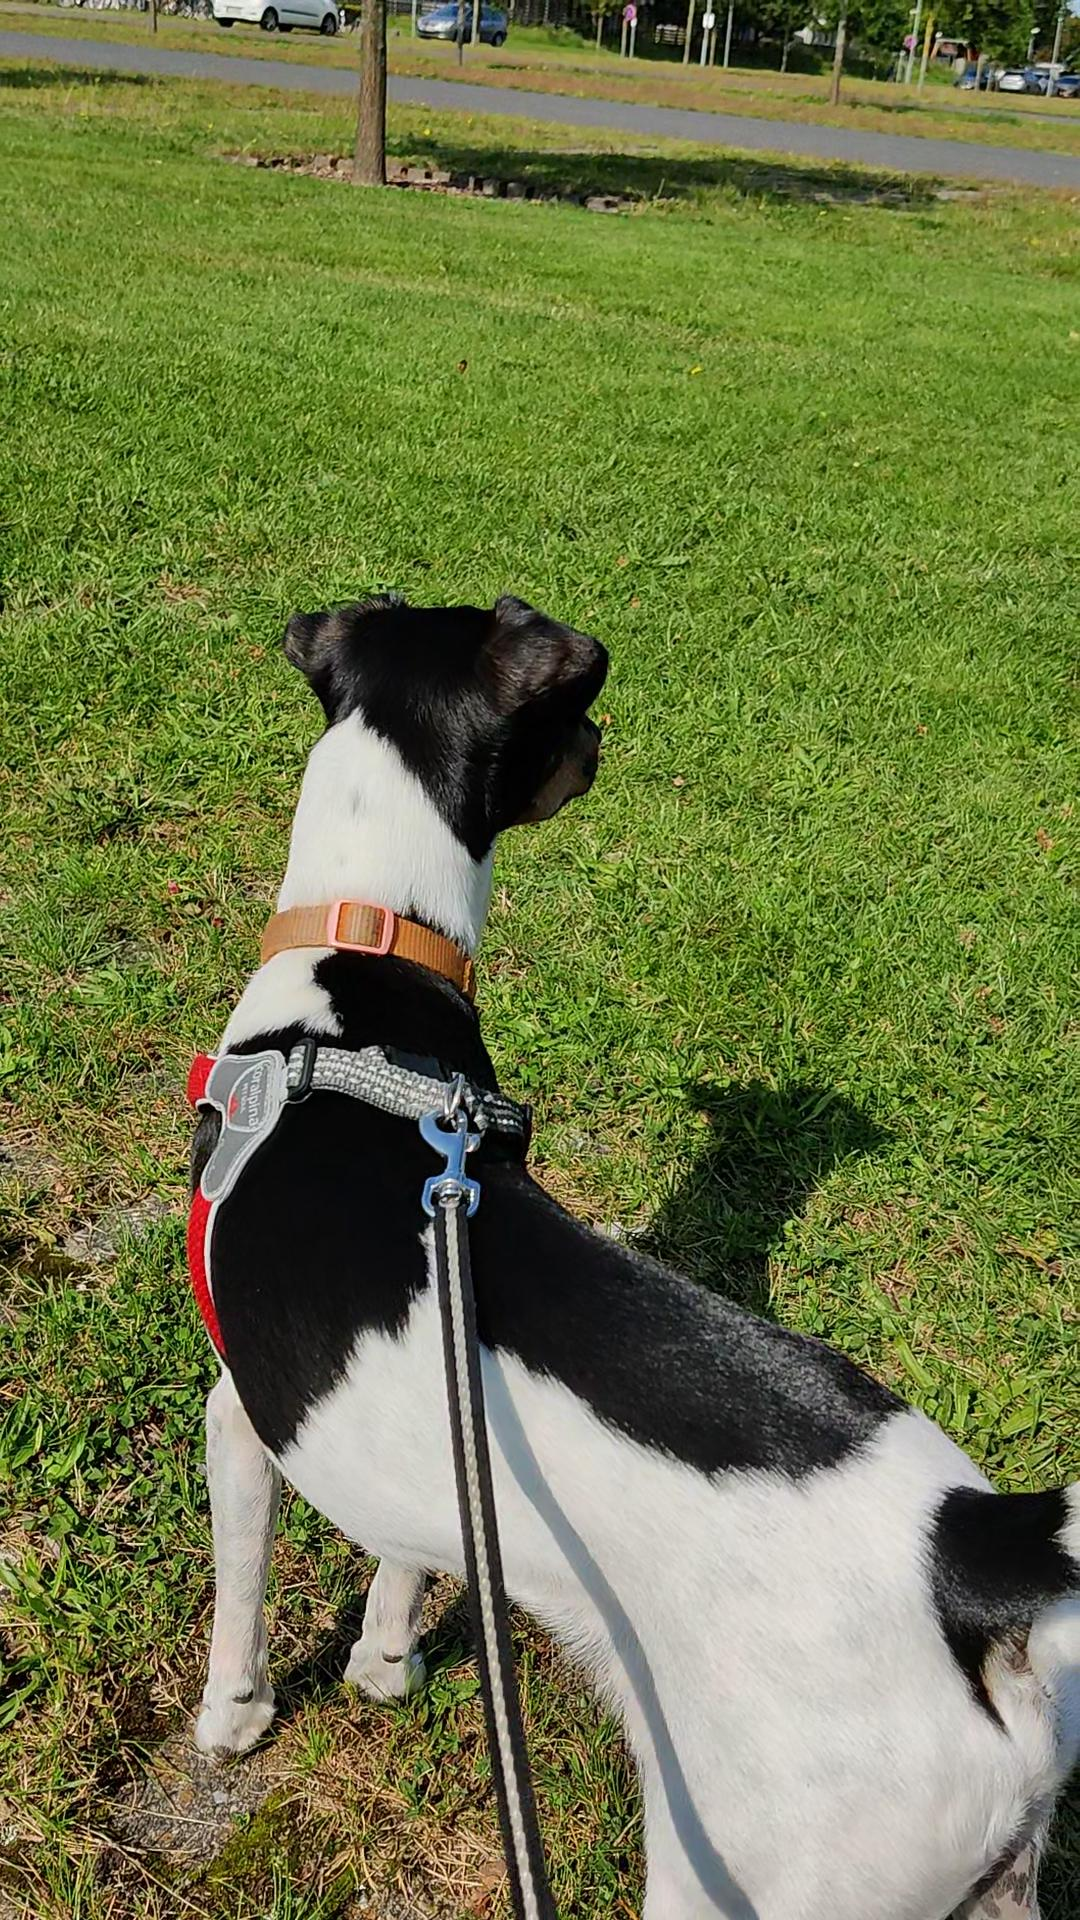Dog: (117, 545, 1079, 1919)
